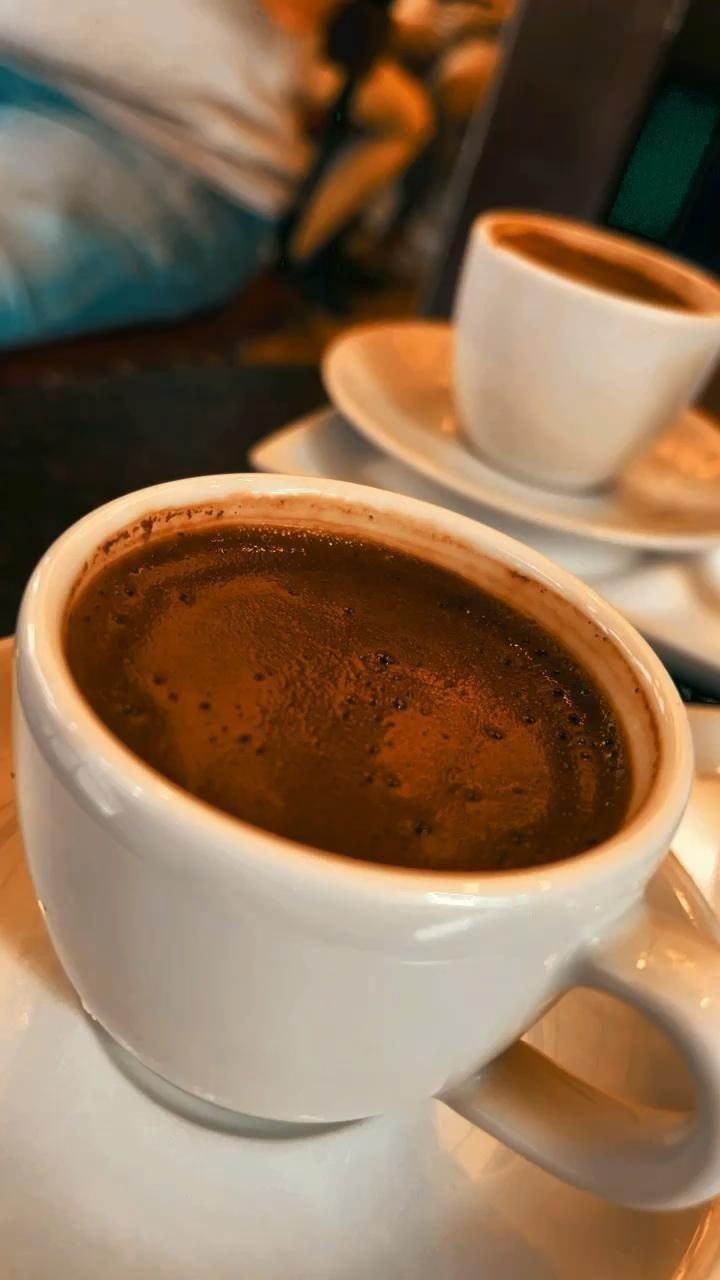cup-handle: (11, 471, 719, 1218), (446, 208, 719, 492)
